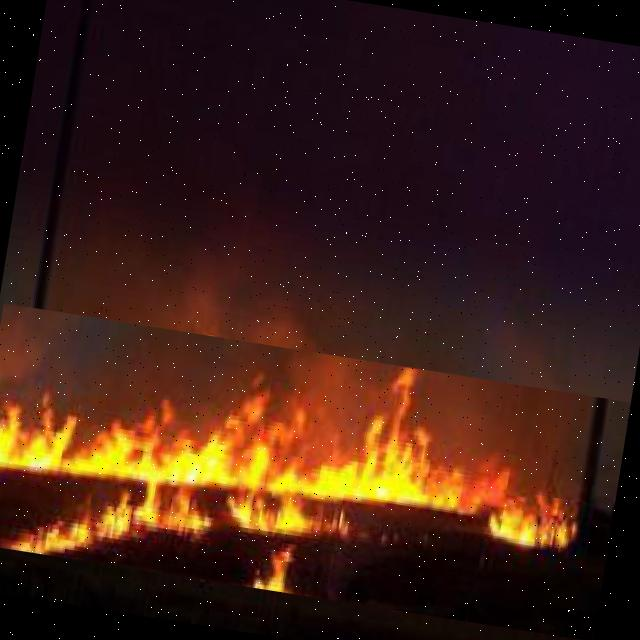fire: (0, 303, 631, 640)
